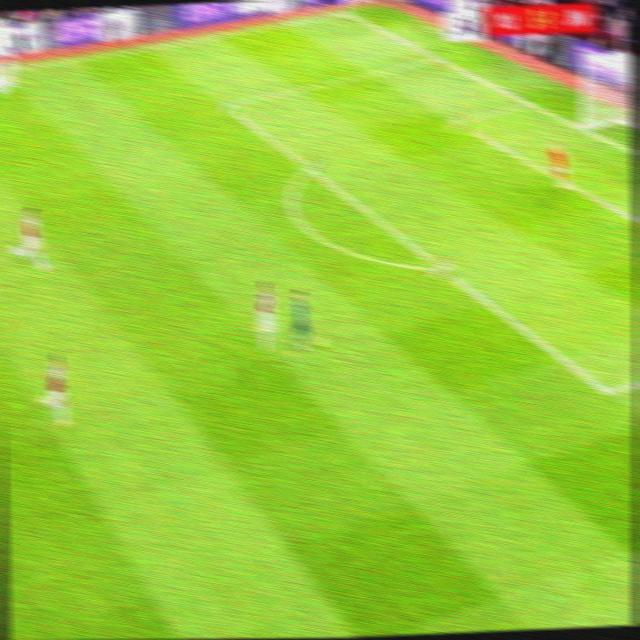bigarea_bottom_inner: (595, 374, 621, 407)
bigarea_top_inner: (215, 91, 237, 115)
bigarea_top_outter: (426, 47, 450, 67)
bottom_arc_area_intersection: (427, 252, 454, 279)
corner: (333, 4, 358, 20)
smallarea_top_inner: (445, 108, 471, 132)
smallarea_top_outter: (517, 90, 543, 113)
top_arc_area_intersection: (297, 155, 320, 176)
